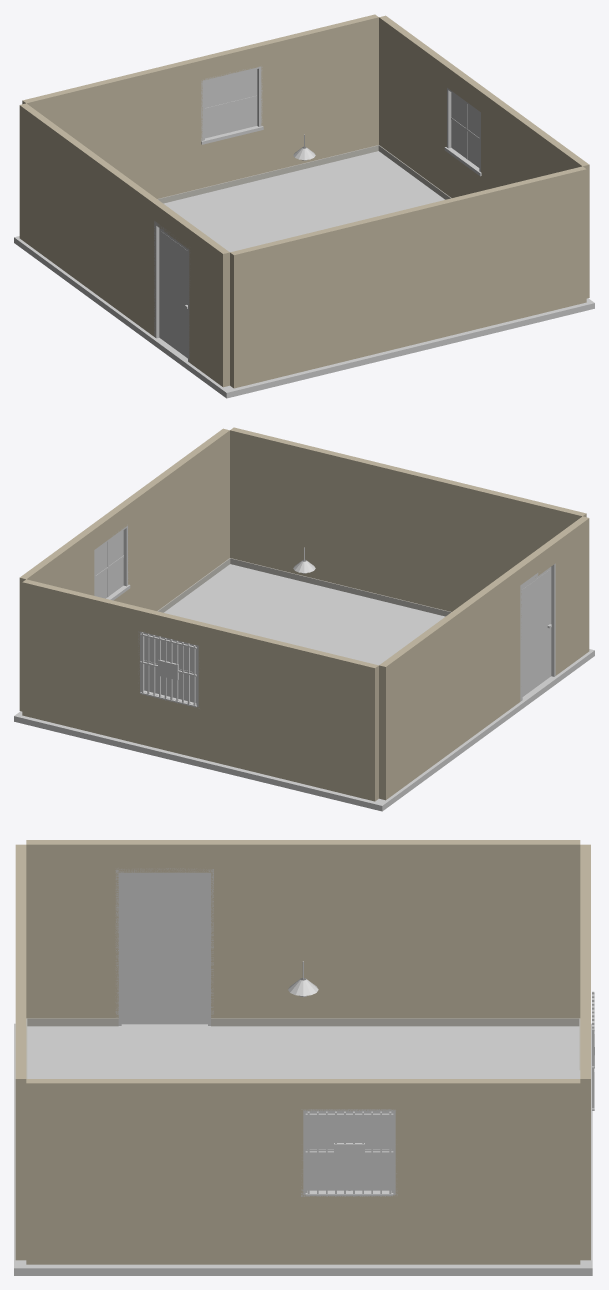
Rendered from room-selfcontain-terrazzo.glb.
The picture shows the model from 3 angles, top to bottom: view 1: azimuth 30°, elevation 25°; view 2: azimuth 150°, elevation 25°; view 3: azimuth 270°, elevation 25°; orthographic projection. The views are drawn at different scales.
Visible parts, largest first — view 1: wall_front, wall_back, wall_left, wall_right, floor, room-selfcontain-terrazzo, glass_wall_back, glass_wall_right; view 2: wall_back, wall_front, wall_left, wall_right, floor, room-selfcontain-terrazzo, glass_wall_back, glass_wall_right; view 3: wall_left, wall_right, floor, room-selfcontain-terrazzo, wall_front, wall_back, glass_wall_right.
Boxes of the visible parts, <box> form: wall_front: <box>230,166,586,388</box>; wall_back: <box>22,14,378,203</box>; wall_left: <box>19,103,229,387</box>; wall_right: <box>378,15,589,298</box>; floor: <box>163,151,444,252</box>; room-selfcontain-terrazzo: <box>14,134,594,398</box>; glass_wall_back: <box>205,69,257,138</box>; glass_wall_right: <box>451,92,479,167</box>; wall_back: <box>22,579,378,801</box>; wall_front: <box>230,427,586,616</box>; wall_left: <box>379,516,589,800</box>; wall_right: <box>19,428,230,711</box>; floor: <box>164,564,445,665</box>; room-selfcontain-terrazzo: <box>14,547,594,811</box>; glass_wall_back: <box>144,635,196,702</box>; glass_wall_right: <box>95,530,123,598</box>; wall_left: <box>26,840,580,1026</box>; wall_right: <box>26,1079,580,1264</box>; floor: <box>27,1026,579,1078</box>; room-selfcontain-terrazzo: <box>14,961,592,1275</box>; wall_front: <box>15,844,27,1260</box>; wall_back: <box>578,844,594,1260</box>; glass_wall_right: <box>307,1113,391,1190</box>.
Size of the model in its own units: 7.55 by 2.75 by 7.55.
